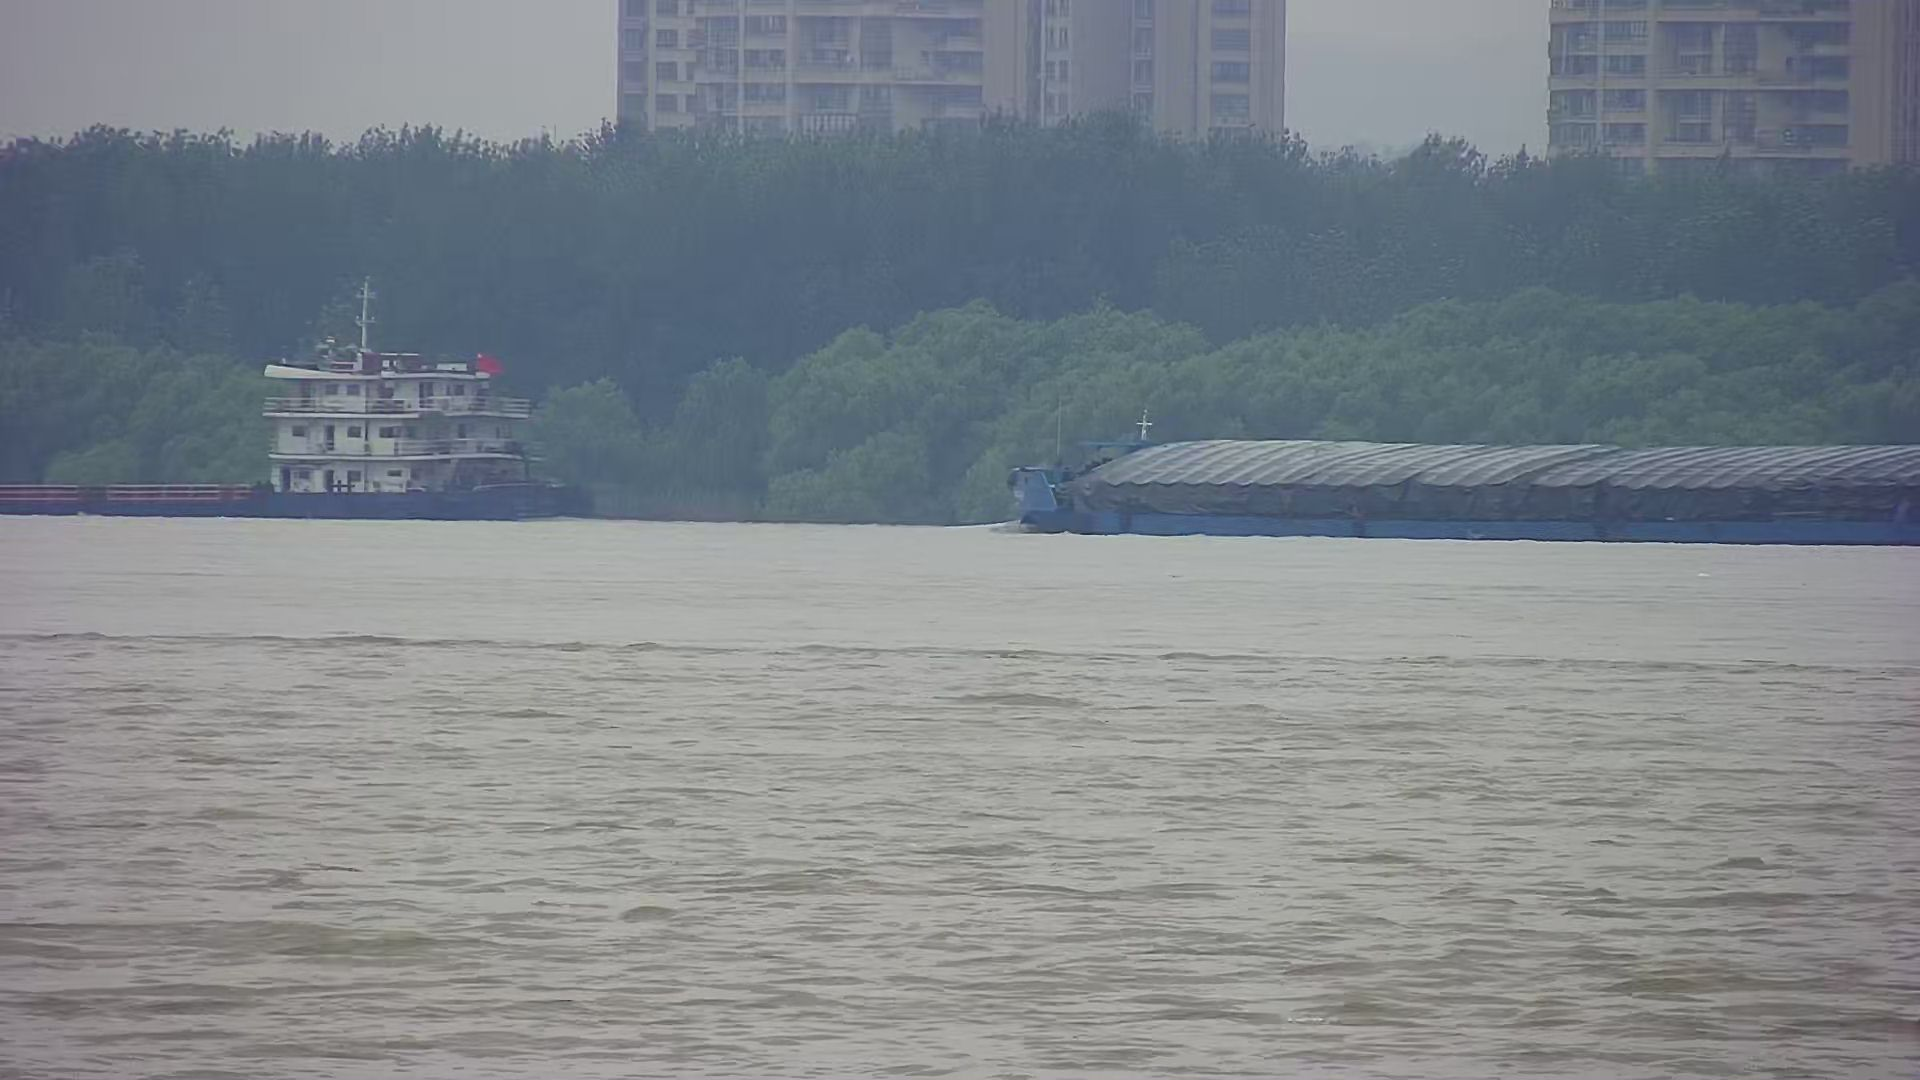ship: (976, 369, 1920, 553), (1, 318, 593, 531)
